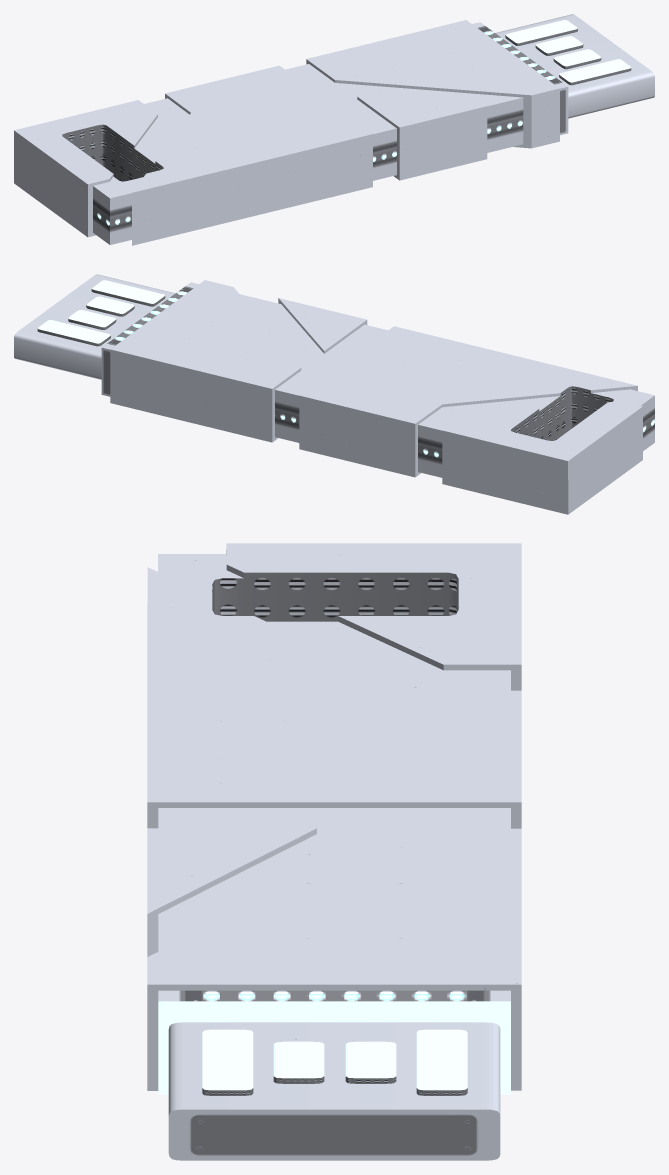
File: Usb.FBX
The picture shows the model from 3 angles, top to bottom: view 1: azimuth 30°, elevation 25°; view 2: azimuth 150°, elevation 25°; view 3: azimuth 270°, elevation 25°; orthographic projection. The views are drawn at different scales.
Visible parts, largest first — view 1: outer_low, usb_Low, pin_low; view 2: outer_low, usb_Low, pin_low; view 3: outer_low, usb_Low, pin_low.
Part boxes in pixels (<box>): outer_low: <box>14,20,559,245</box>; usb_Low: <box>62,14,654,244</box>; pin_low: <box>505,20,631,85</box>; outer_low: <box>110,280,642,514</box>; usb_Low: <box>14,274,654,477</box>; pin_low: <box>37,280,165,346</box>; outer_low: <box>147,543,521,1090</box>; usb_Low: <box>158,554,510,1160</box>; pin_low: <box>202,1029,467,1095</box>.
Size of the model in its own units: 56.64 by 5.2 by 16.62.
